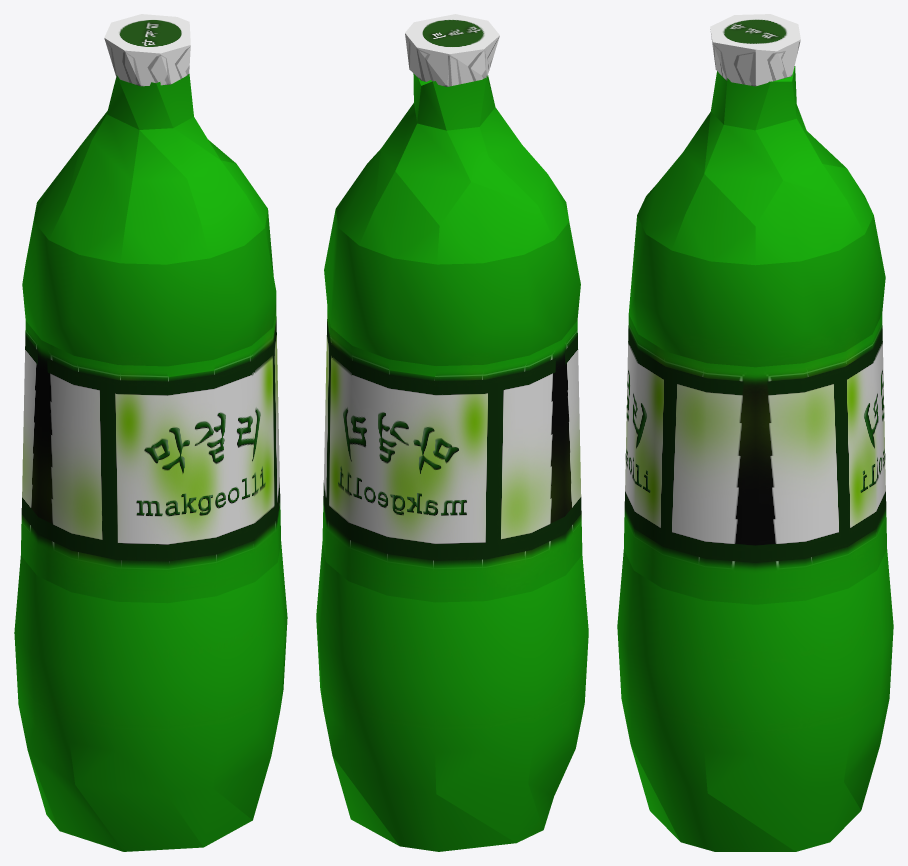
File: 막걸리 2.fbx
3 renders of one model, left to right at view 1: azimuth 30°, elevation 25°; view 2: azimuth 150°, elevation 25°; view 3: azimuth 270°, elevation 25°, orthographic.
Parts seen in each view (by area): view 1: body, cap; view 2: body, cap; view 3: body, cap.
Boxes of the visible parts, <box> form: body: <box>14,74,287,851</box>; cap: <box>104,14,190,86</box>; body: <box>316,73,588,851</box>; cap: <box>405,14,499,86</box>; body: <box>617,66,893,851</box>; cap: <box>710,14,800,86</box>.
Bounding box in the file's own units: 79.53 × 248 × 79.53.
Materials: 2 (2 with a texture image).
